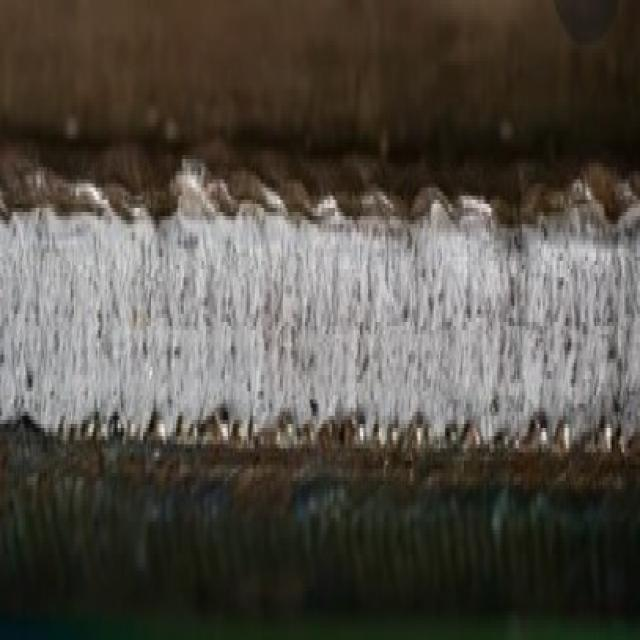Bad Welding: (0, 142, 637, 490)
Porosity: (50, 396, 626, 460)
